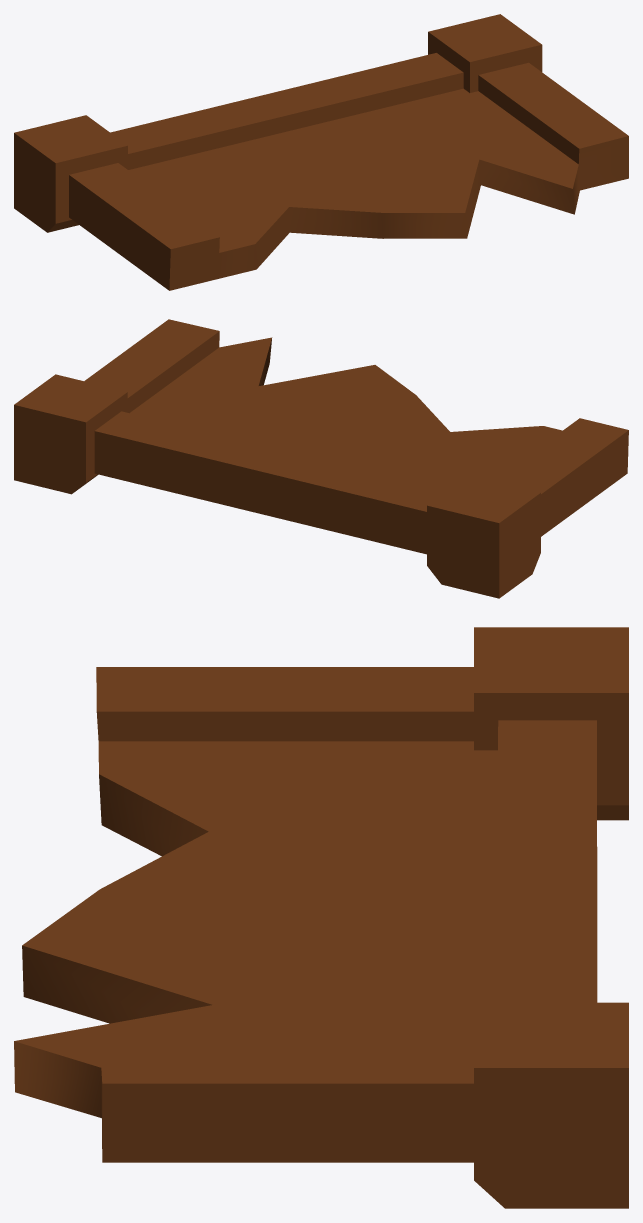
The model's file is CrateTop.fbx.
3 renders of one model, top to bottom at view 1: azimuth 30°, elevation 25°; view 2: azimuth 150°, elevation 25°; view 3: azimuth 270°, elevation 25°, orthographic. The views are drawn at different scales.
Visible parts, largest first — view 1: CrateTop; view 2: CrateTop; view 3: CrateTop.
Boxes of the visible parts, x1,y1,x2,y2 form: CrateTop: (14, 14, 628, 290); CrateTop: (14, 319, 628, 598); CrateTop: (14, 627, 628, 1208).
Bounding box in the file's own units: 2.35 × 0.3492 × 1.39.
